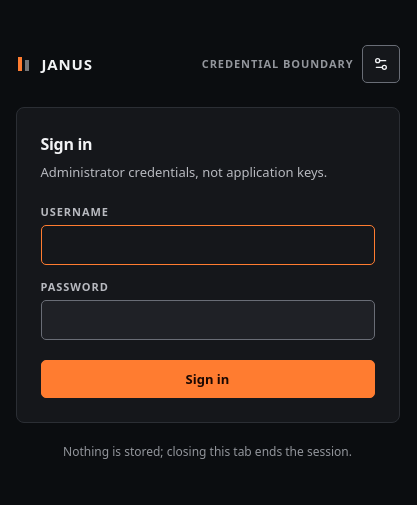
Scenario: SignIn › keeps nothing in the page after a refusal
Type "root" into the field labelled "Username" at (208, 245), box 40,225 -> 374,265
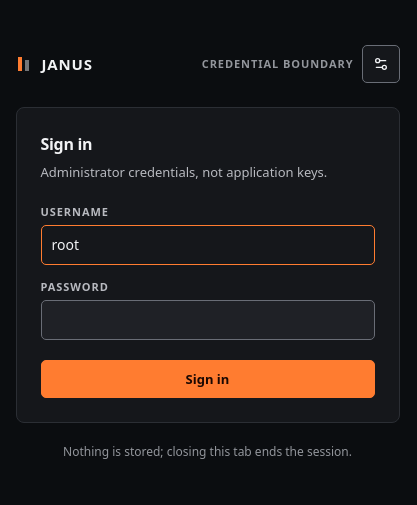
Type "hunter2" into the password field labelled "Password" at (208, 320), box 40,300 -> 374,340
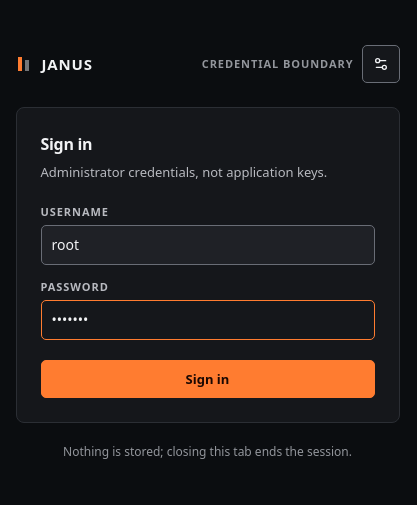
Click the button "Sign in" at (208, 379), box 40,360 -> 374,398
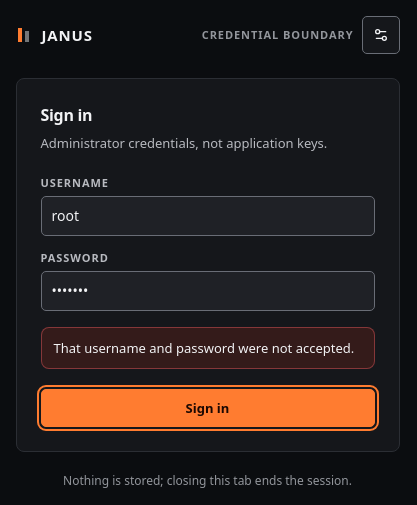
Check: the message "That username and password were not accepted." is shown, box 40,327 -> 374,369
